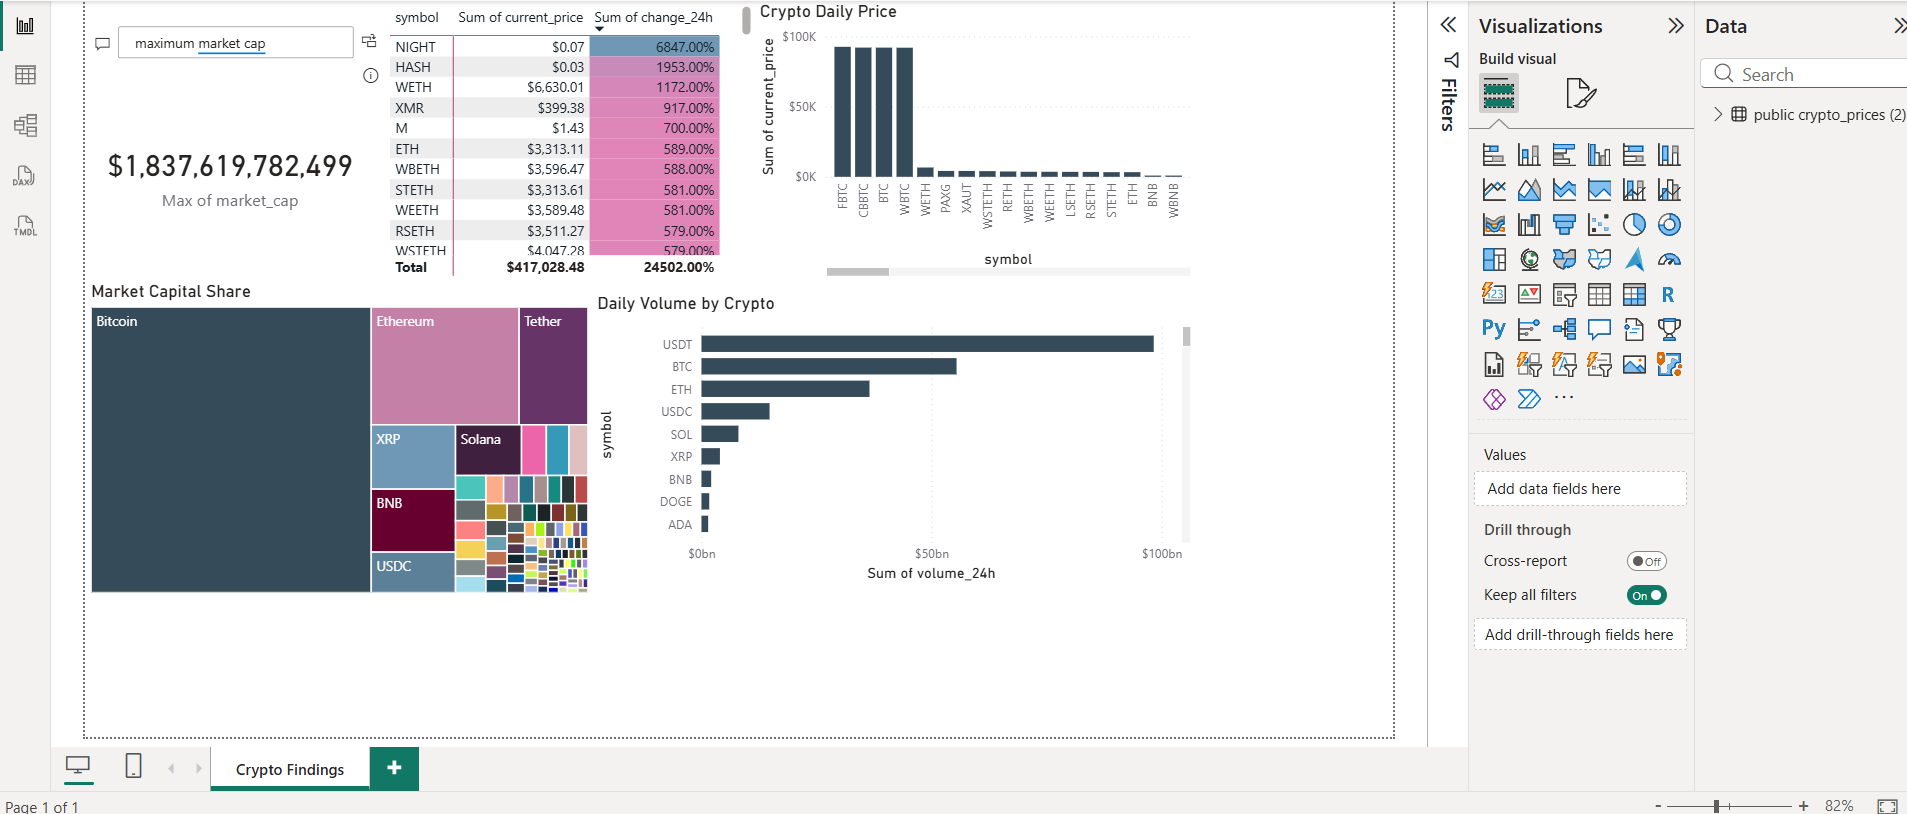

This screenshot's page, from the dashboard's own definition file:
{"tool":"powerbi","page":{"name":"Crypto Findings","canvas":[1280,720],"ordinal":0},"visuals":[{"type":"columnChart","title":"Crypto Daily Price","fields":{"Category":["public crypto_prices (2).symbol"],"Y":["Sum(public crypto_prices (2).current_price)"]},"box":[656,0,431,274],"z":0},{"type":"treemap","title":"Market Capital Share","fields":{"Group":["public crypto_prices (2).cryptocurrency"],"Values":["Sum(public crypto_prices (2).market_cap)"]},"box":[1,274,496,310],"z":1000},{"type":"barChart","title":"Daily Volume by Crypto","fields":{"Category":["public crypto_prices (2).symbol"],"Y":["Sum(public crypto_prices (2).volume_24h)"]},"box":[497,285,590,288],"z":2000},{"type":"pivotTable","fields":{"Rows":["public crypto_prices (2).symbol"],"Values":["Sum(public crypto_prices (2).current_price)","Sum(public crypto_prices (2).change_24h)"]},"box":[293,0,363,274],"z":3000},{"type":"qnaVisual","box":[1,0,292,274],"z":4000}]}

Visuals, with their boxes on the page's 1280x720 design canvas (x1, y1, x2, y2). These are canvas units, not pixel positions in the 1907x814 screenshot, which may show the page scaled, cropped or inside an application window:
"Crypto Daily Price" columnChart: [x1=656, y1=0, x2=1087, y2=274]
"Market Capital Share" treemap: [x1=1, y1=274, x2=497, y2=584]
"Daily Volume by Crypto" barChart: [x1=497, y1=285, x2=1087, y2=573]
pivotTable - public crypto_prices (2).symbol x Sum(public crypto_prices (2).current_price): [x1=293, y1=0, x2=656, y2=274]
qnaVisual: [x1=1, y1=0, x2=293, y2=274]
